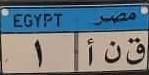1: (30, 38, 48, 67)
alif: (84, 36, 97, 67)
noon: (102, 40, 123, 66)
qaaf: (125, 35, 147, 67)
